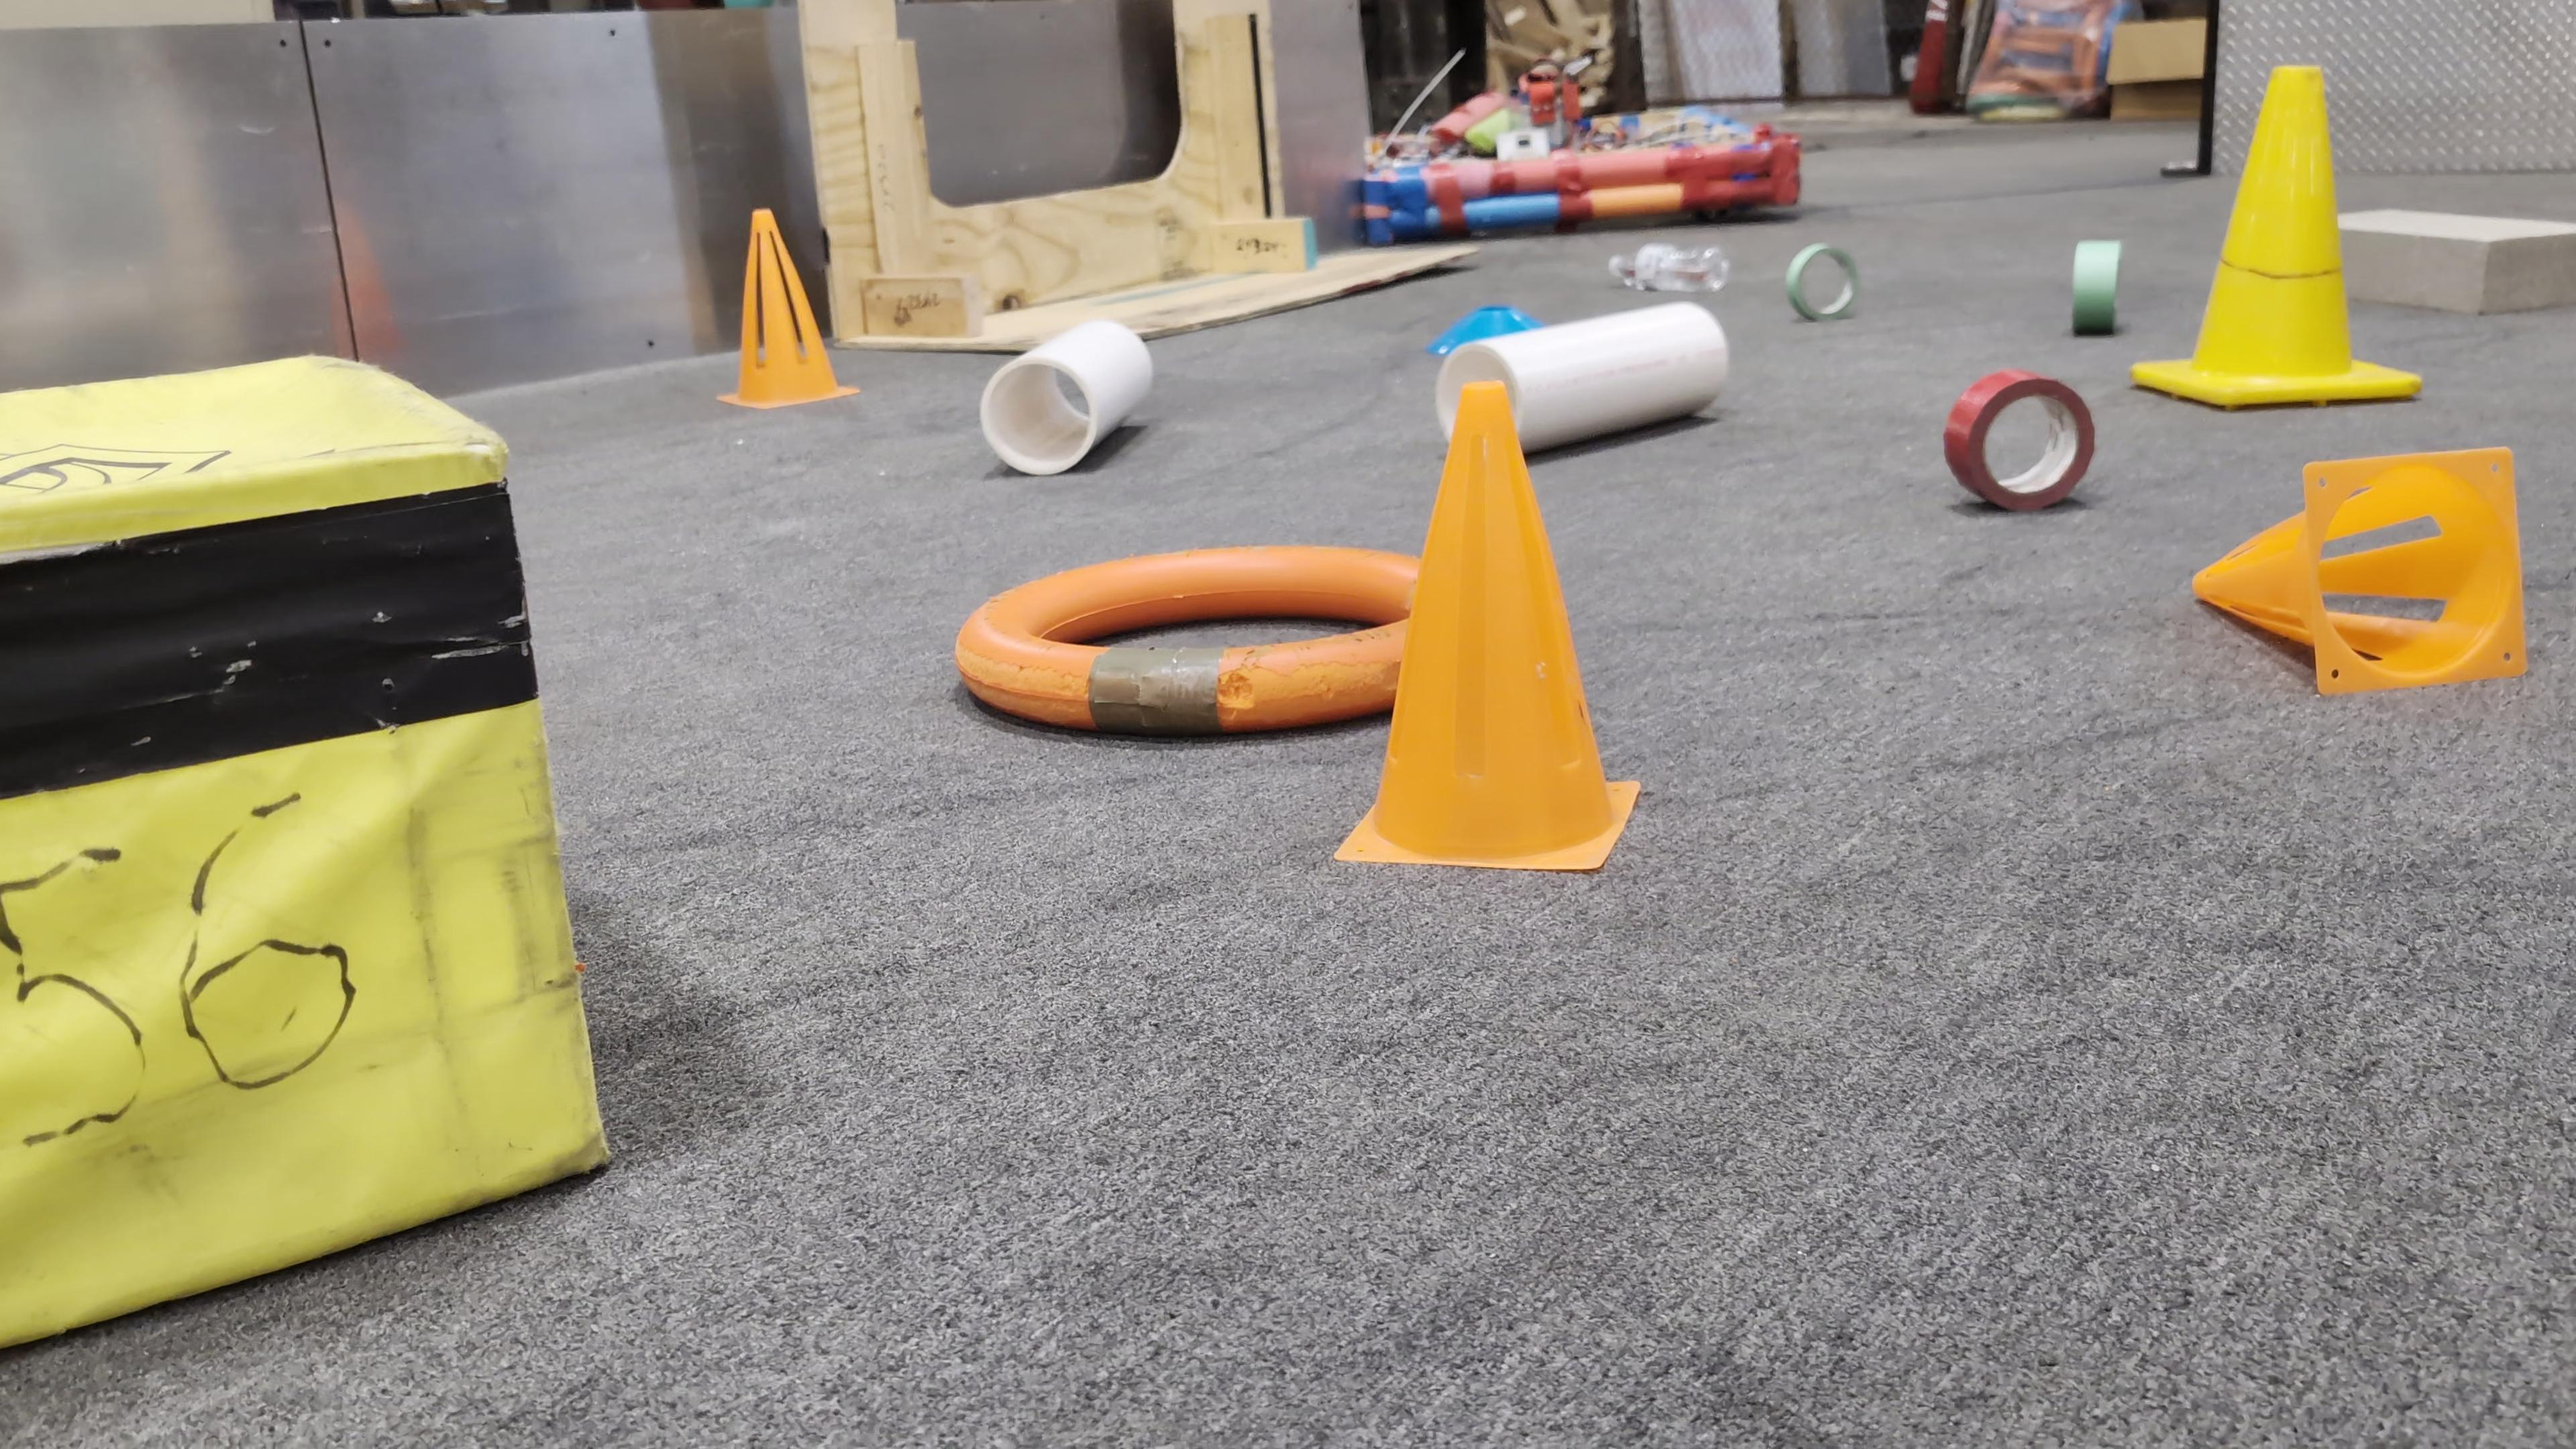coral: (1481, 297, 1732, 456), (980, 313, 1152, 474)
